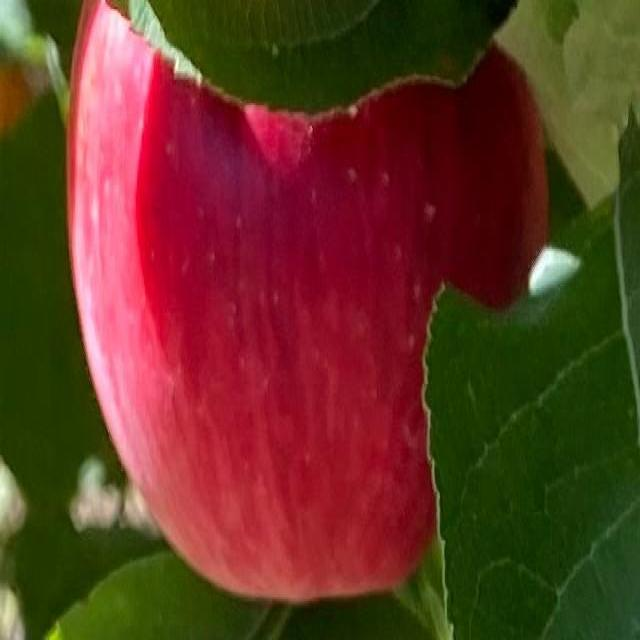Rotten Apple: (67, 0, 547, 601)
